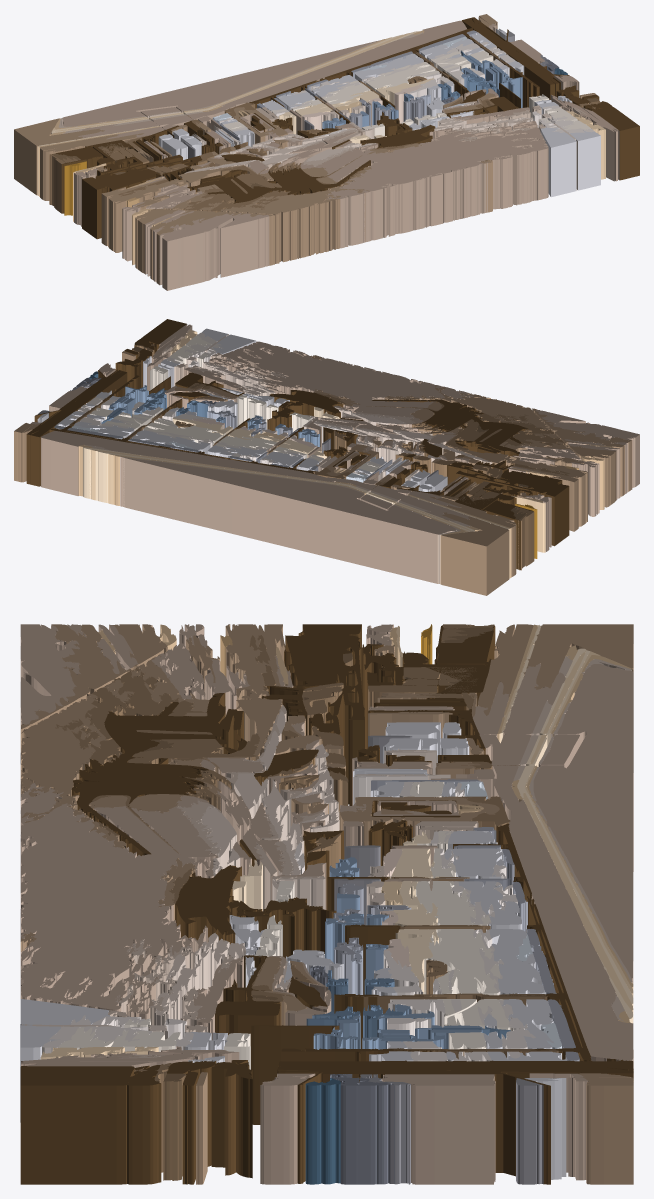
Rendered from sfondo.glb.
The picture shows the model from 3 angles, top to bottom: view 1: azimuth 30°, elevation 25°; view 2: azimuth 150°, elevation 25°; view 3: azimuth 270°, elevation 25°; orthographic projection. The views are drawn at different scales.
Bounding box in the file's own units: 100 × 10 × 56.15.
